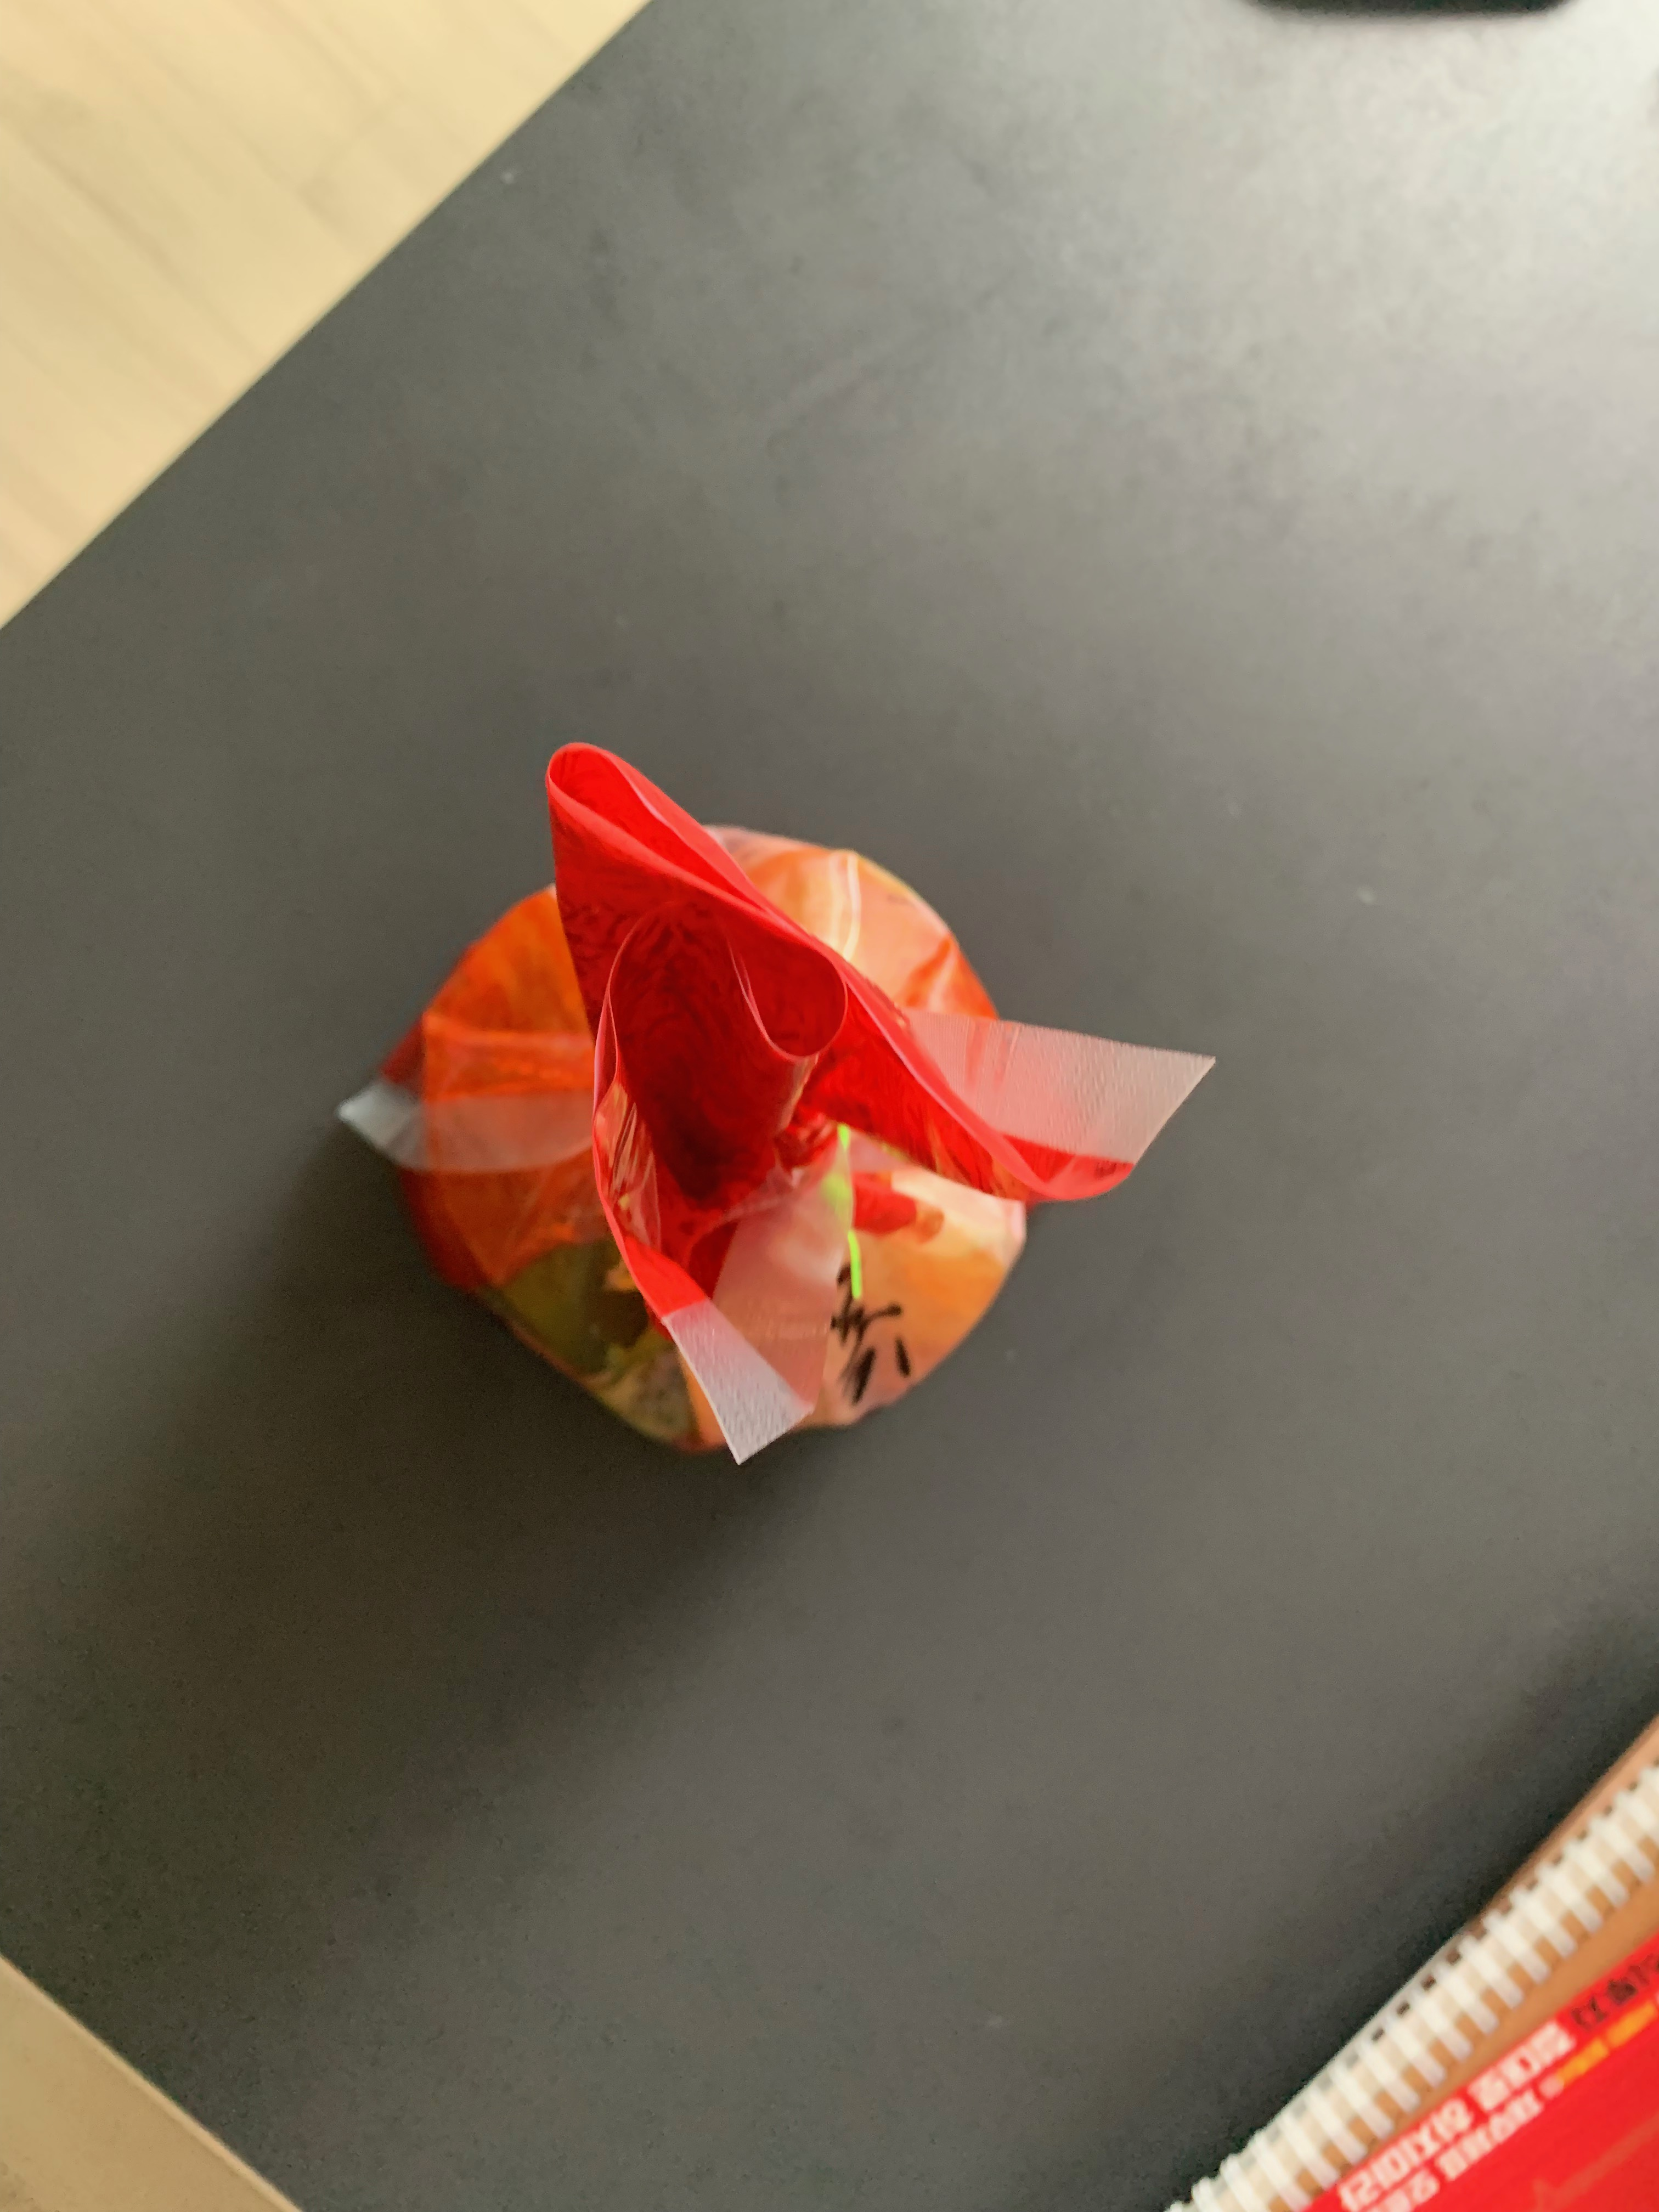kimchi: (389, 744, 1126, 1432)
